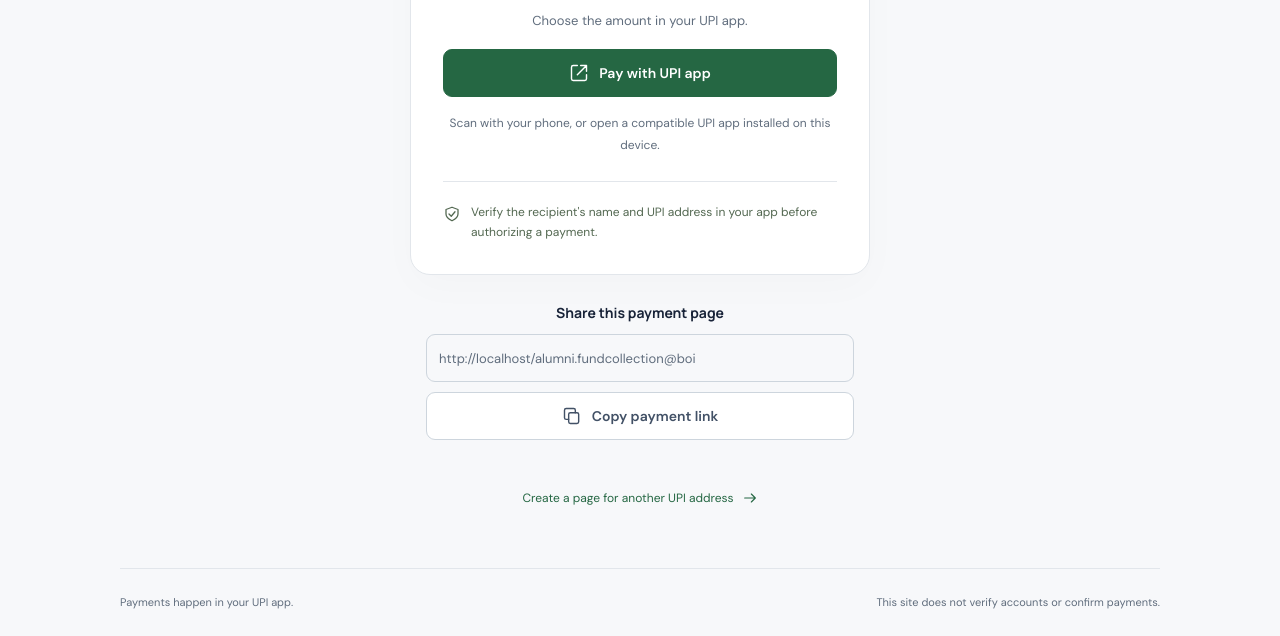
it: direct payment pages › shows manual copy instructions on clipboard failure
(page scrolled)
Click the button "Copy payment link". click: [640, 416]
box: [426,392,854,440]
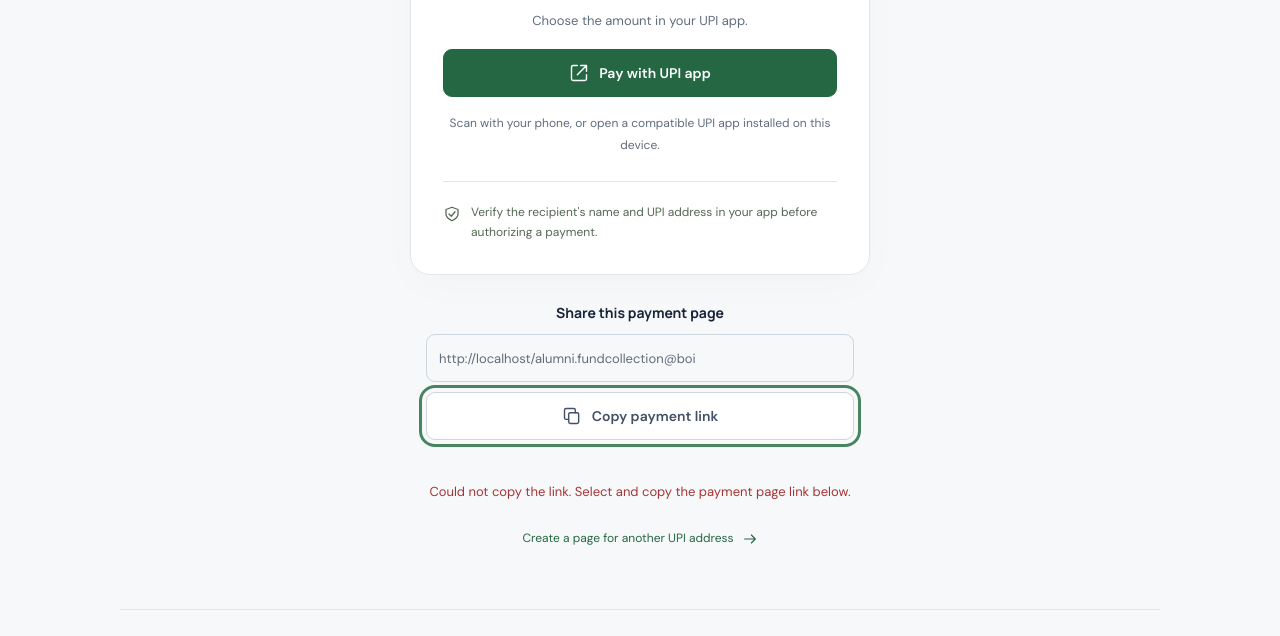
Expected: the message "Could not copy the link. Select and copy the payment page link below." is shown, [426,482,854,504]
